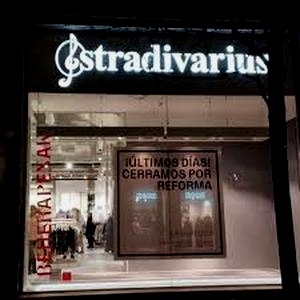stradivarius: (254, 13, 299, 39)
